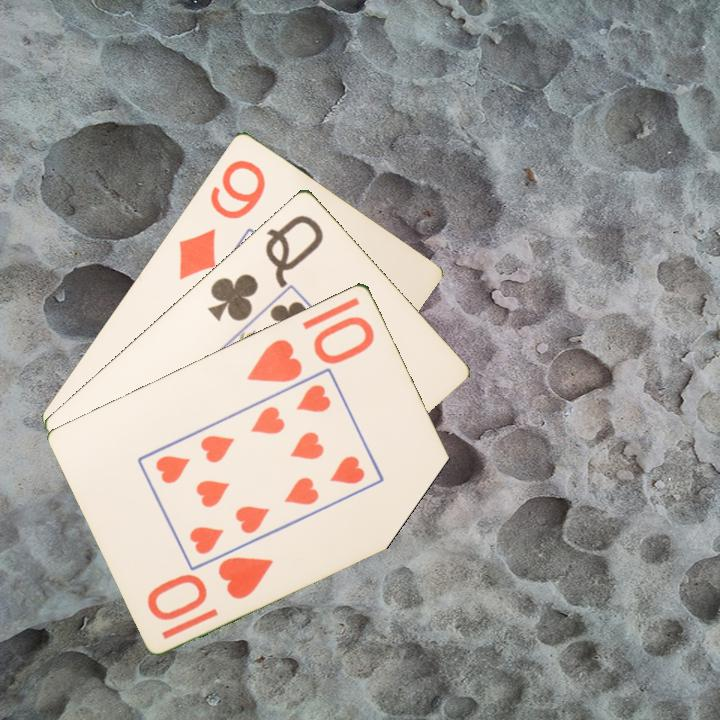10h: (243, 312, 378, 385), (143, 552, 277, 623)
9d: (174, 155, 269, 282)
Qc: (203, 210, 327, 324)
